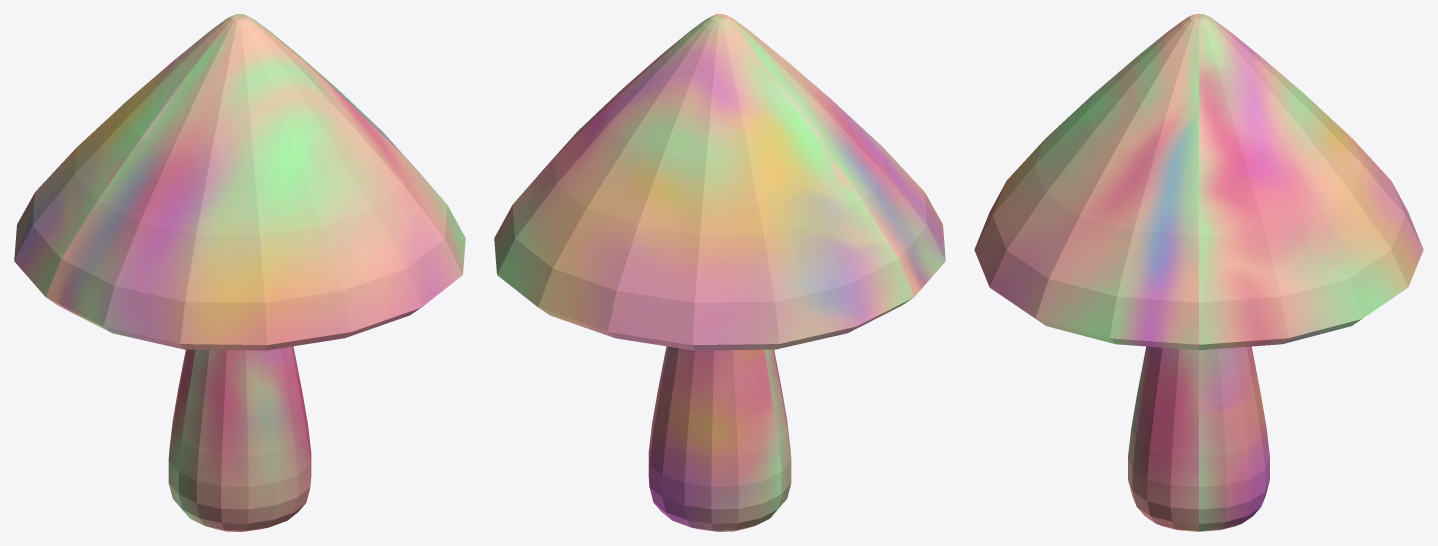
Rendered from hongo1.glb.
3 views of the same model, side by side, from view 1: azimuth 30°, elevation 25°; view 2: azimuth 150°, elevation 25°; view 3: azimuth 270°, elevation 25° (orthographic).
Visible parts, largest first — view 1: hongo_1; view 2: hongo_1; view 3: hongo_1.
Boxes of the visible parts, x1,y1,x2,y2 form: hongo_1: [14, 14, 465, 531]; hongo_1: [494, 14, 945, 531]; hongo_1: [974, 14, 1423, 531].
Size of what is drawn, in the model's own units: 5.12 by 6.31 by 5.12.
1 material, 1 textured.
